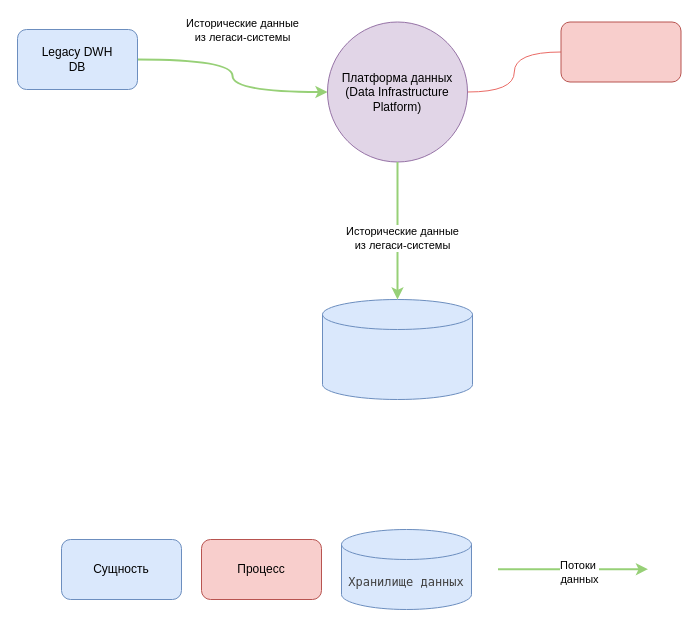
This 699x627 diagram has some shape labels left out. Each missing label, with the centre of its shape:
1.0 Миграция данных: the point at 620,51
D1: Физическое место хранения Data Products: the point at 397,349
